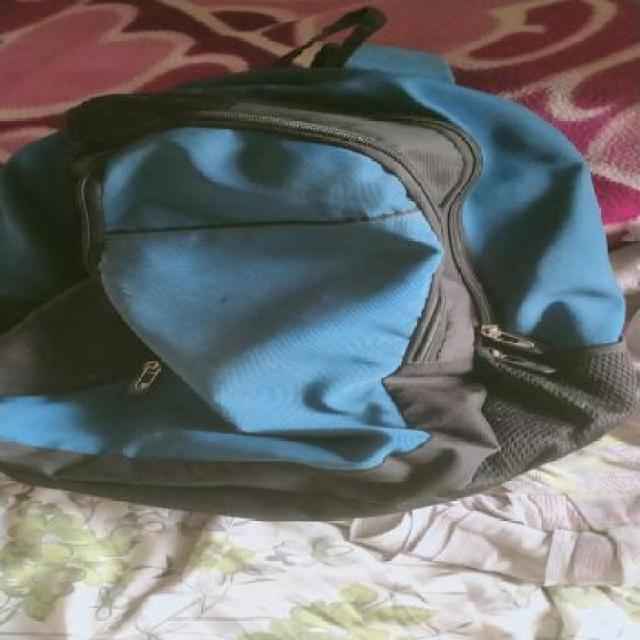backpack: (0, 6, 640, 531)
